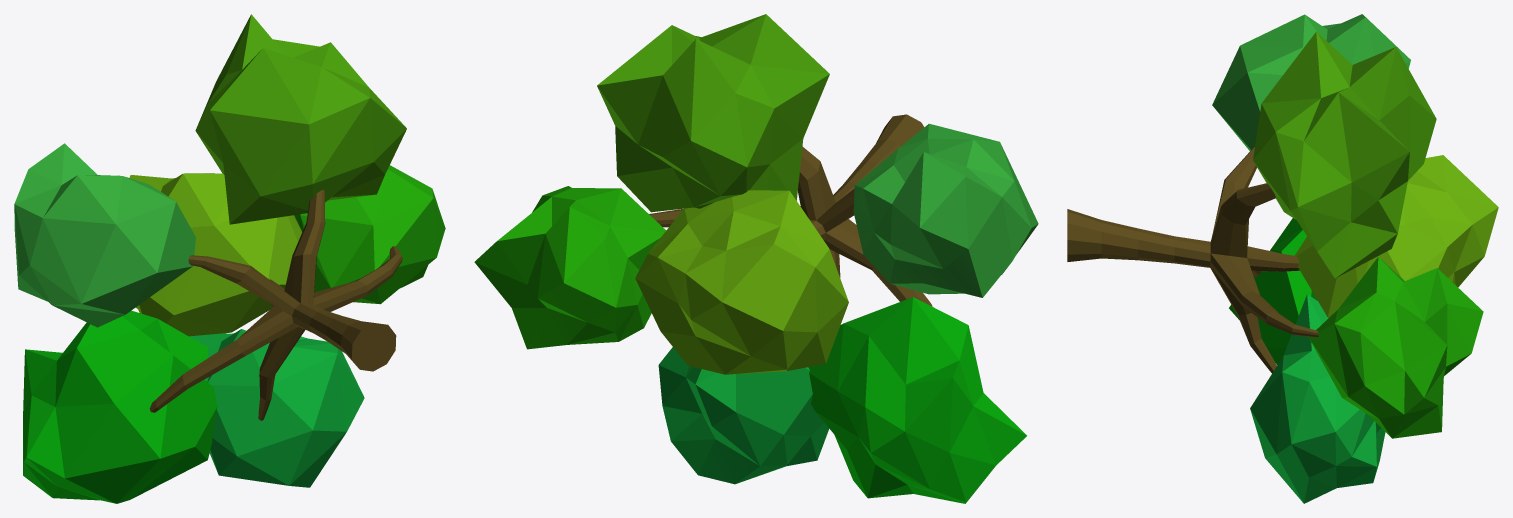
File: BigTree.fbx
3 renders of one model, left to right at view 1: azimuth 30°, elevation 25°; view 2: azimuth 150°, elevation 25°; view 3: azimuth 270°, elevation 25°, orthographic. The views are drawn at different scales.
Visible parts, largest first — view 1: Cylinder; view 2: Cylinder; view 3: Cylinder.
Boxes of the visible parts, <box> form: Cylinder: <box>14,14,445,503</box>; Cylinder: <box>474,14,1038,503</box>; Cylinder: <box>1067,14,1498,503</box>.
Size of the model in its own units: 4059 by 3699 by 3200.
